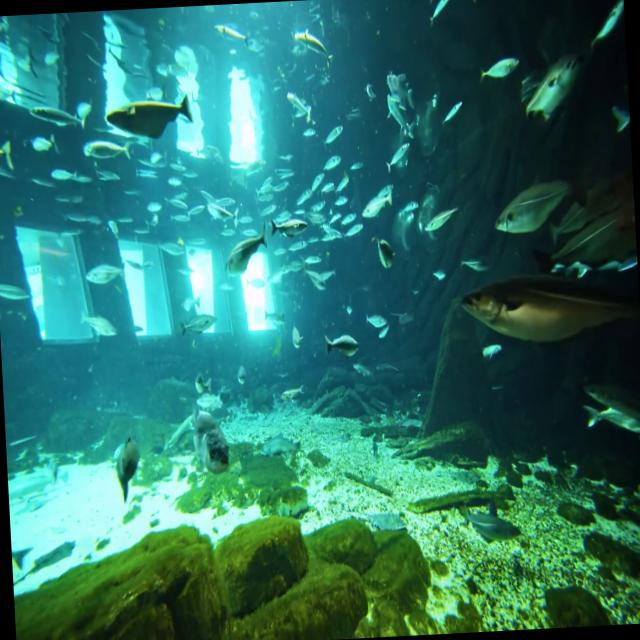fish: (455, 265, 640, 355), (493, 174, 591, 244), (516, 45, 588, 128), (104, 92, 194, 142), (197, 386, 234, 484), (226, 214, 270, 273), (110, 421, 144, 497), (263, 206, 312, 248)
